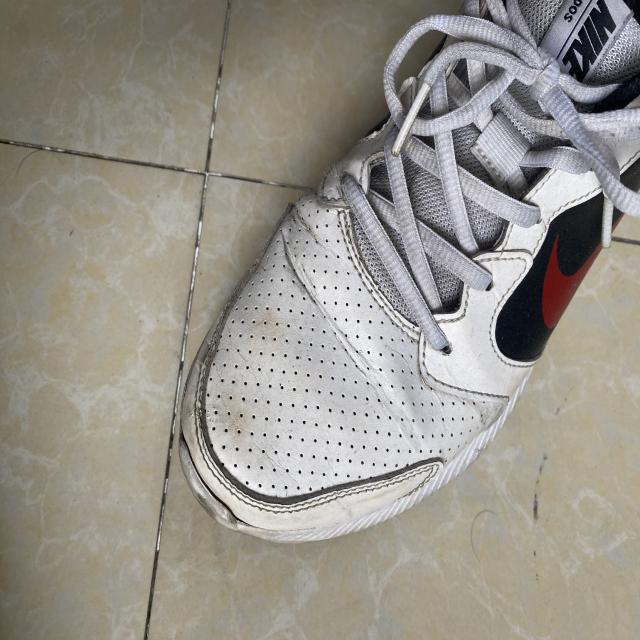broken-error: (316, 162, 354, 210), (191, 343, 215, 390)
